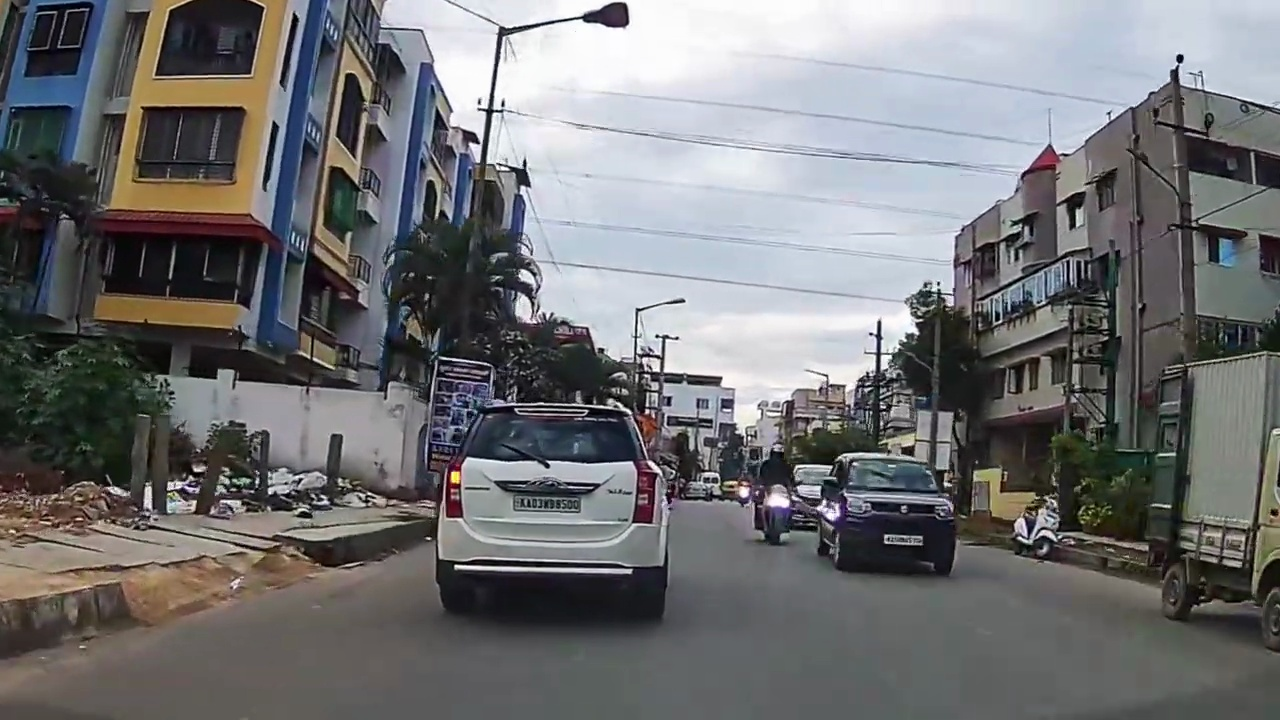garbage: (268, 465, 322, 497), (219, 474, 247, 508), (167, 478, 187, 506)
